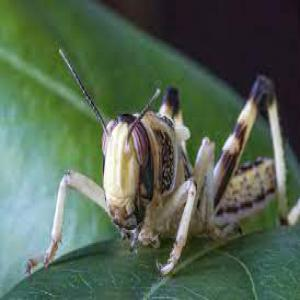locust: (51, 48, 300, 272)
